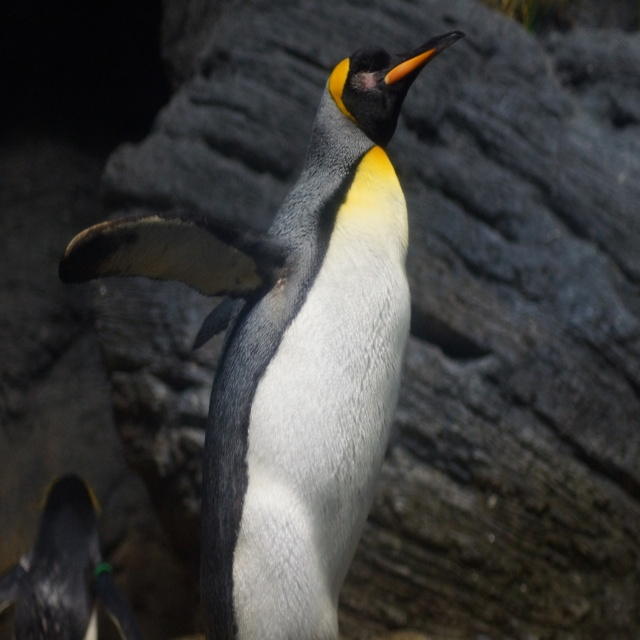Penguin: (57, 30, 466, 640)
